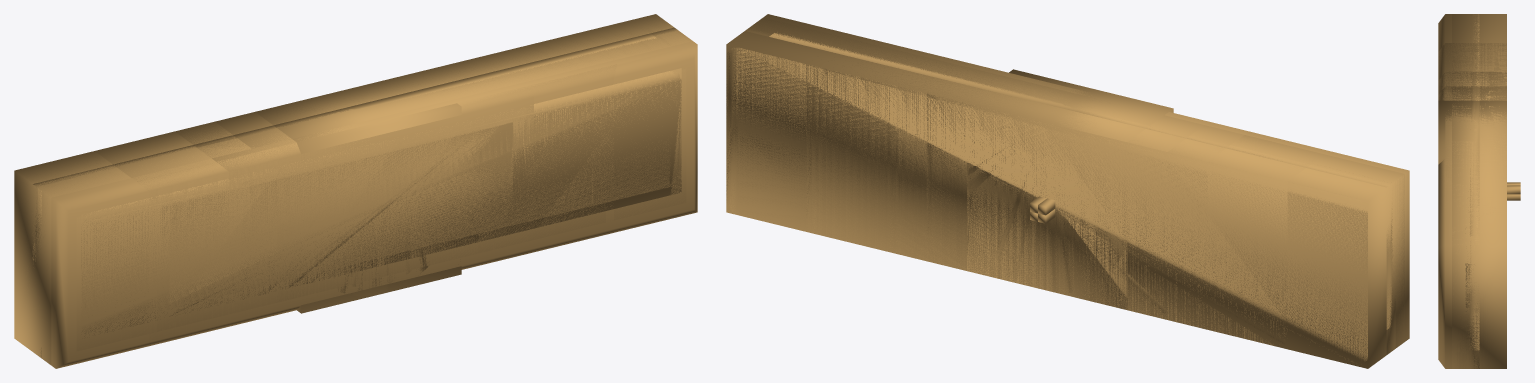
Rendered from Buttons.fbx.
3 renders of one model, left to right at view 1: azimuth 30°, elevation 25°; view 2: azimuth 150°, elevation 25°; view 3: azimuth 270°, elevation 25°, orthographic. The views are drawn at different scales.
Visible parts, largest first — view 1: SquareButton_0.2_4to1, KeyboardKeyRounded_4to1, SquareButton_0.2_3to1, SquareButton_0.1_4to1, SquareButton_0.1_2to1, SquareButton_0.1_3to1, KeyboardKey_0.1_2to1, KeyboardKeyRounded_0.1_4to1, SquareButton_0.2_3to2, SquareButton_0.2_2to1, KeyboardKeyRounded_0.1_3to1, KeyboardKeyRounded_0.1_2to1 (+9 smaller); view 2: SquareButton_0.2_4to1, KeyboardKeyRounded_0.1_4to1, SquareButton_0.2_3to1, SquareButton_0.1_4to1, KeyboardKeyRounded_0.1_2to1, KeyboardKey_0.1, KeyboardKeyRounded_0.1_3to1, RoundButton_0.2, SquareButton_0.2_3to2, SquareButton_0.2, SquareButtonPlunger_Rounded0.3_4to1, KeyboardKeyRounded_0.1 (+7 smaller); view 3: SquareButton_0.2_4to1, SquareButton_0.1_4to1, SquareButton_0.2_3to1, SquareButton_0.1_3to1, SquareButtonPlunger_Rounded0.3_4to1, SquareButton_0.2_3to2, SquareButton, SquareButtonPlunger_Rounded0.3_0.06_4to1, SquareButton_0.2_2to1, SquareButtonPlunger_4to1, SquareButton_0.2, SquareButton_0.1_2to1 (+6 smaller).
Boxes of the visible parts, bbox=[...] form: SquareButton_0.2_4to1: bbox=[14, 14, 692, 364]; KeyboardKeyRounded_4to1: bbox=[81, 71, 681, 333]; SquareButton_0.2_3to1: bbox=[95, 36, 605, 331]; SquareButton_0.1_4to1: bbox=[14, 14, 697, 368]; SquareButton_0.1_2to1: bbox=[177, 95, 536, 327]; SquareButton_0.1_3to1: bbox=[96, 39, 616, 345]; KeyboardKey_0.1_2to1: bbox=[249, 148, 512, 289]; KeyboardKeyRounded_0.1_4to1: bbox=[90, 80, 673, 327]; SquareButton_0.2_3to2: bbox=[215, 78, 419, 302]; SquareButton_0.2_2to1: bbox=[175, 86, 525, 308]; KeyboardKeyRounded_0.1_3to1: bbox=[169, 99, 593, 303]; KeyboardKeyRounded_0.1_2to1: bbox=[250, 122, 512, 281]; SquareButton_0.2_4to1: bbox=[726, 17, 1404, 368]; KeyboardKeyRounded_0.1_4to1: bbox=[726, 48, 1367, 364]; SquareButton_0.2_3to1: bbox=[806, 49, 1323, 329]; SquareButton_0.1_4to1: bbox=[728, 14, 1409, 368]; KeyboardKeyRounded_0.1_2to1: bbox=[890, 87, 1207, 322]; KeyboardKey_0.1: bbox=[967, 118, 1127, 309]; KeyboardKeyRounded_0.1_3to1: bbox=[806, 72, 1286, 345]; RoundButton_0.2: bbox=[967, 123, 1124, 292]; SquareButton_0.2_3to2: bbox=[926, 93, 1203, 261]; SquareButton_0.2: bbox=[1049, 96, 1163, 141]; SquareButtonPlunger_Rounded0.3_4to1: bbox=[769, 32, 1393, 329]; KeyboardKeyRounded_0.1: bbox=[967, 138, 1127, 297]; SquareButton_0.2_4to1: bbox=[1452, 14, 1506, 368]; SquareButton_0.1_4to1: bbox=[1438, 14, 1506, 368]; SquareButton_0.2_3to1: bbox=[1452, 43, 1506, 215]; SquareButton_0.1_3to1: bbox=[1438, 43, 1506, 216]; SquareButtonPlunger_Rounded0.3_4to1: bbox=[1465, 23, 1479, 350]; SquareButton_0.2_3to2: bbox=[1452, 86, 1506, 171]; SquareButton: bbox=[1438, 100, 1506, 164]; SquareButtonPlunger_Rounded0.3_0.06_4to1: bbox=[1470, 129, 1520, 347]; SquareButton_0.2_2to1: bbox=[1452, 71, 1506, 150]; SquareButtonPlunger_4to1: bbox=[1465, 14, 1479, 368]; SquareButton_0.2: bbox=[1452, 100, 1506, 120]; SquareButton_0.1_2to1: bbox=[1438, 71, 1504, 182].
Size of the model in its own units: 8 by 2 by 1.2.
